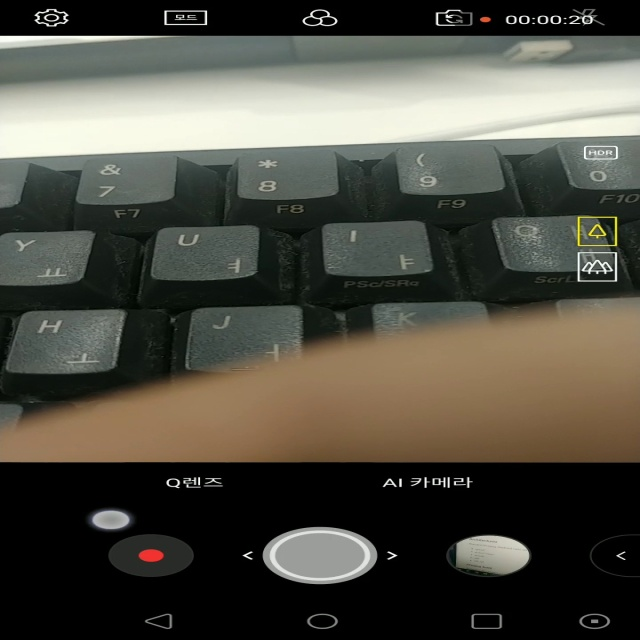Cursor: (88, 510, 133, 532)
